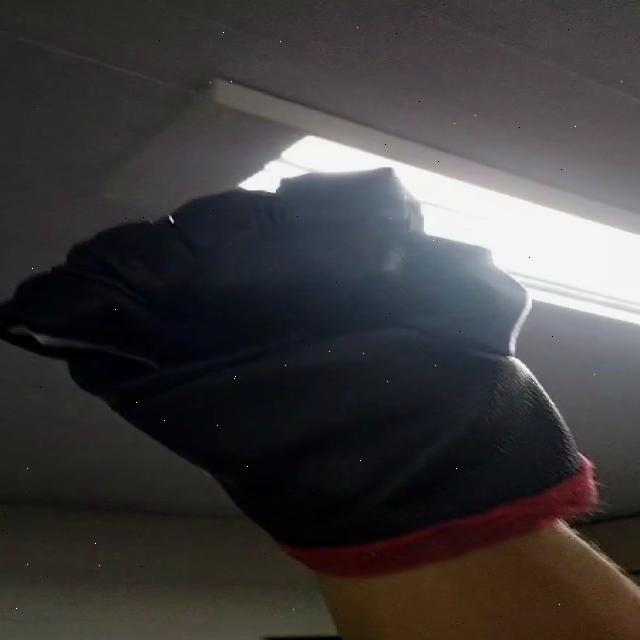Gloves: (1, 168, 596, 579)
